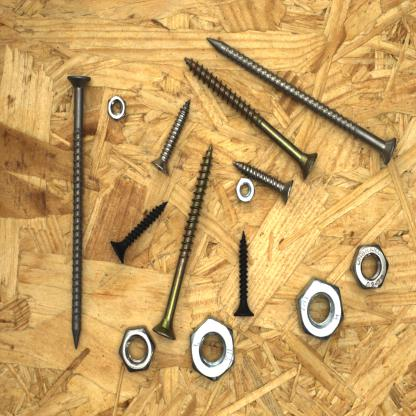screw: (204, 34, 399, 168), (181, 55, 320, 182), (150, 140, 216, 342), (62, 71, 94, 352), (107, 197, 170, 267), (148, 95, 193, 179), (232, 159, 298, 209), (230, 228, 258, 321)
